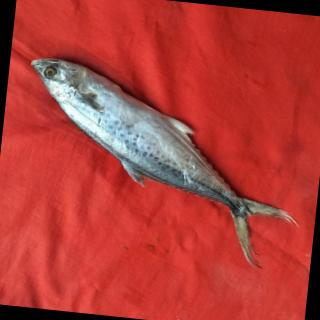Ikan: (8, 48, 316, 286)
